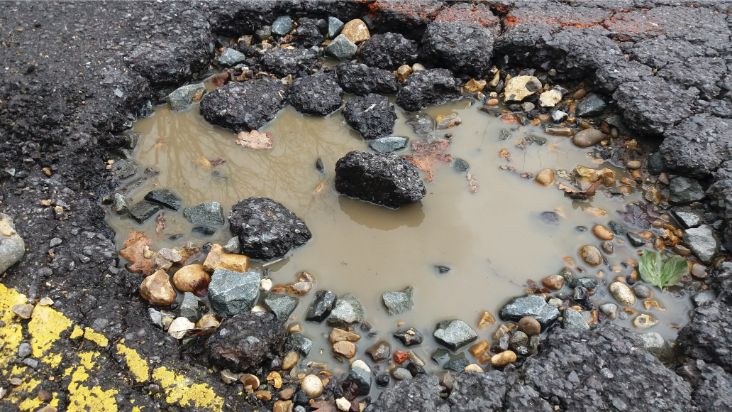pothole: (55, 5, 715, 390)
